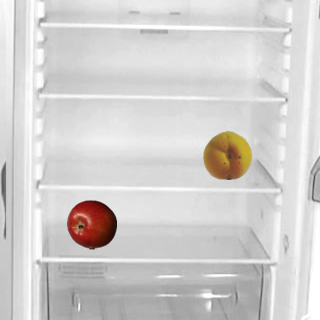Apple Braeburn: (66, 199, 116, 249)
Peach 2: (202, 129, 252, 179)
